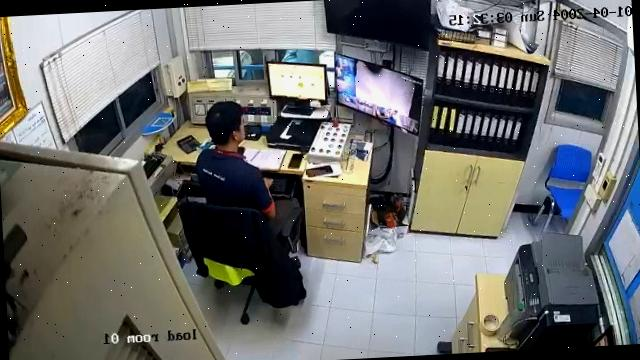Head: (205, 101, 244, 145)
People: (195, 102, 300, 235)
Phone: (307, 165, 332, 176), (288, 153, 303, 168)
